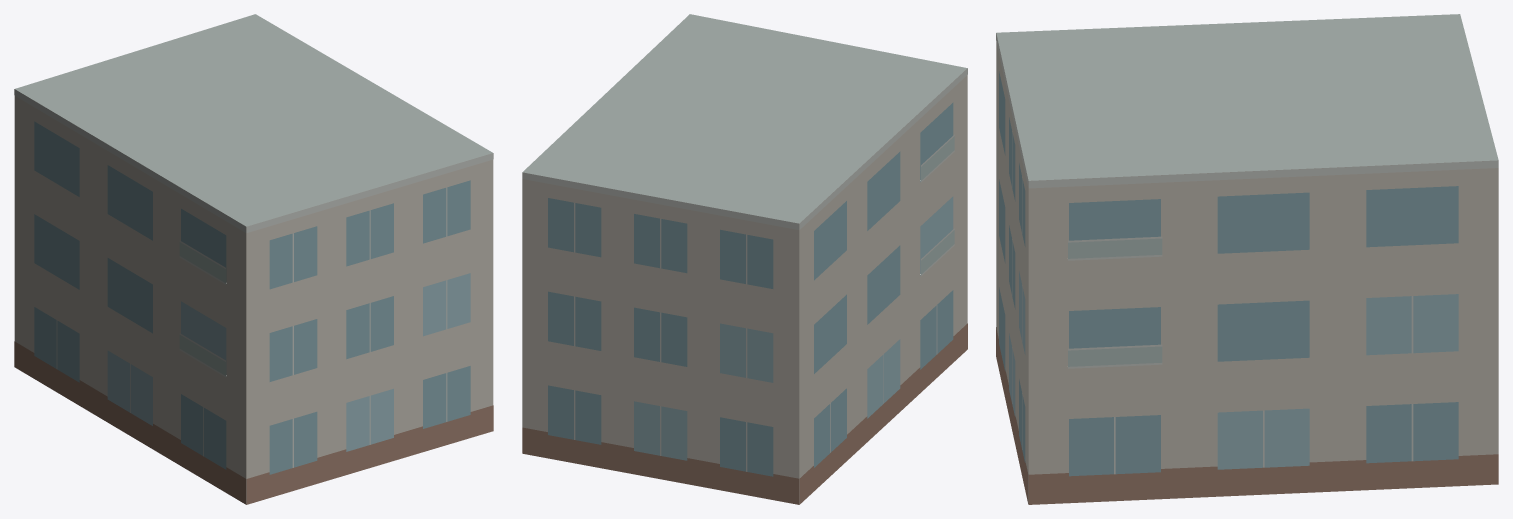
File: survey-upis-32736765.glb
The picture shows the model from 3 angles, left to right: view 1: azimuth 30°, elevation 25°; view 2: azimuth 150°, elevation 25°; view 3: azimuth 270°, elevation 25°; orthographic projection. The views are drawn at different scales.
Visible parts, largest first — view 1: survey-upis-32736765.tmp; view 2: survey-upis-32736765.tmp; view 3: survey-upis-32736765.tmp.
Boxes of the visible parts, x1=… form: survey-upis-32736765.tmp: x1=14, y1=14, x2=493, y2=504; survey-upis-32736765.tmp: x1=522, y1=14, x2=967, y2=504; survey-upis-32736765.tmp: x1=996, y1=14, x2=1498, y2=504.
Bounding box in the file's own units: 11.5 × 10.4 × 14.63.
